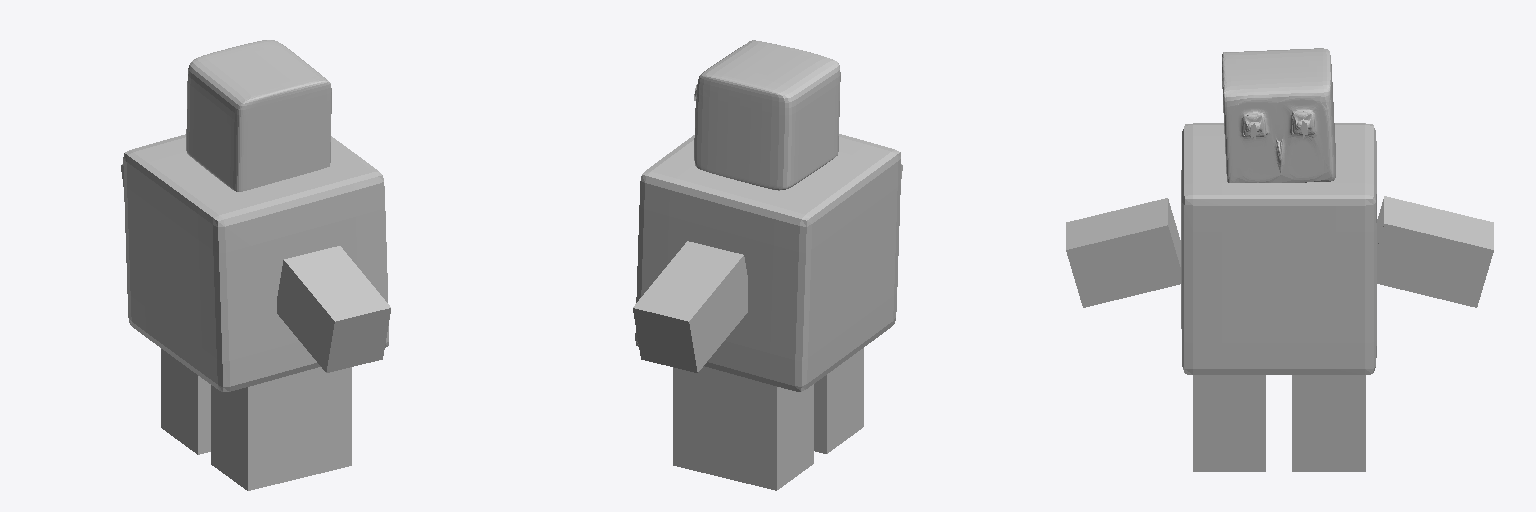
The picture shows the model from 3 angles: view 1: azimuth 30°, elevation 25°; view 2: azimuth 150°, elevation 25°; view 3: azimuth 270°, elevation 25°; orthographic projection.
Parts seen in each view (by area): view 1: Cube_Cube.001, Cube.001_Cube.002, Cube.002_Cube.003, Cube.005_Cube.007, Cube.003_Cube.004; view 2: Cube_Cube.001, Cube.001_Cube.002, Cube.003_Cube.004, Cube.004_Cube.005, Cube.002_Cube.003; view 3: Cube_Cube.001, Cube.001_Cube.002, Cube.004_Cube.005, Cube.005_Cube.007, Cube.003_Cube.004, Cube.002_Cube.003.
Boxes of the visible parts, box(x1,y1,x2,y2) form: Cube_Cube.001: box(123, 134, 388, 391); Cube.001_Cube.002: box(186, 40, 331, 191); Cube.002_Cube.003: box(211, 367, 351, 490); Cube.005_Cube.007: box(277, 246, 390, 372); Cube.003_Cube.004: box(161, 349, 210, 454); Cube_Cube.001: box(635, 134, 900, 391); Cube.001_Cube.002: box(694, 40, 840, 190); Cube.003_Cube.004: box(673, 366, 813, 490); Cube.004_Cube.005: box(633, 241, 747, 372); Cube.002_Cube.003: box(814, 348, 863, 453); Cube_Cube.001: box(1181, 123, 1376, 374); Cube.001_Cube.002: box(1222, 48, 1335, 182); Cube.004_Cube.005: box(1377, 196, 1493, 307); Cube.005_Cube.007: box(1066, 198, 1180, 307); Cube.003_Cube.004: box(1292, 375, 1365, 471); Cube.002_Cube.003: box(1193, 375, 1265, 471).
Bounding box in the file's own units: 1.5 × 3.14 × 3.19.